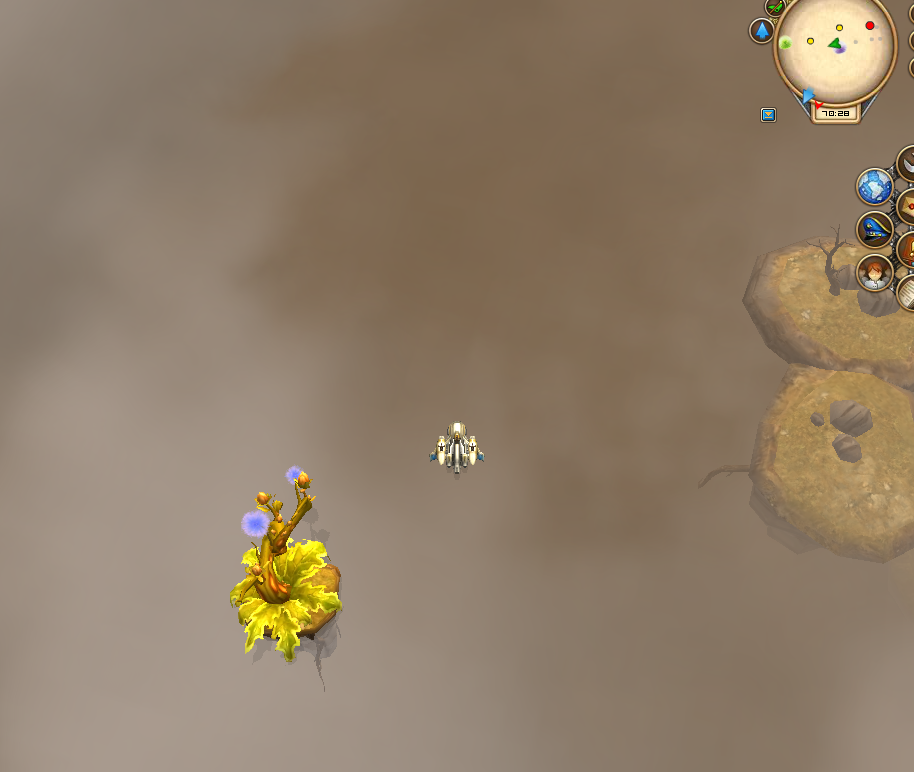dandelion-full: (226, 467, 352, 673)
